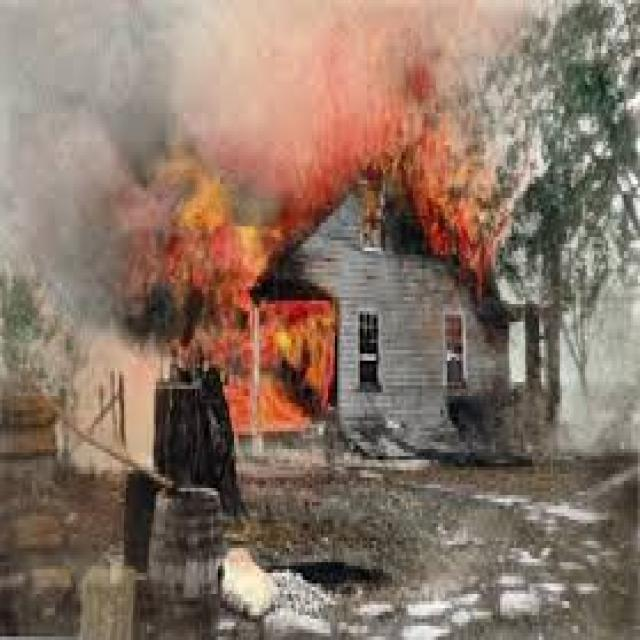Fire: (129, 111, 498, 453)
Smoke: (0, 0, 443, 138)
